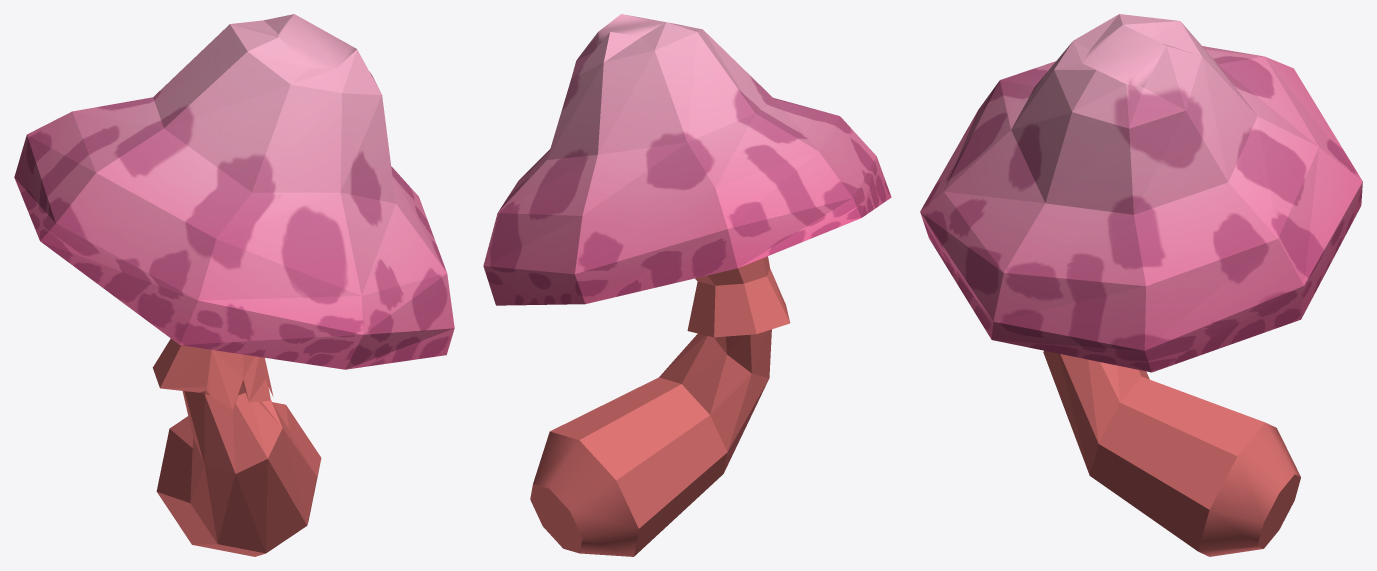
Rendered from mushroom.FBX.
3 views of the same model, side by side, from view 1: azimuth 30°, elevation 25°; view 2: azimuth 150°, elevation 25°; view 3: azimuth 270°, elevation 25° (orthographic). The views are drawn at different scales.
Parts seen in each view (by area): view 1: Cylinder005; view 2: Cylinder005; view 3: Cylinder005.
Boxes of the visible parts, x1,y1,x2,y2 form: Cylinder005: (14,14,454,556); Cylinder005: (483,14,891,556); Cylinder005: (920,14,1362,556).
Bounding box in the file's own units: 243 × 332 × 255.
2 materials, 1 textured.
